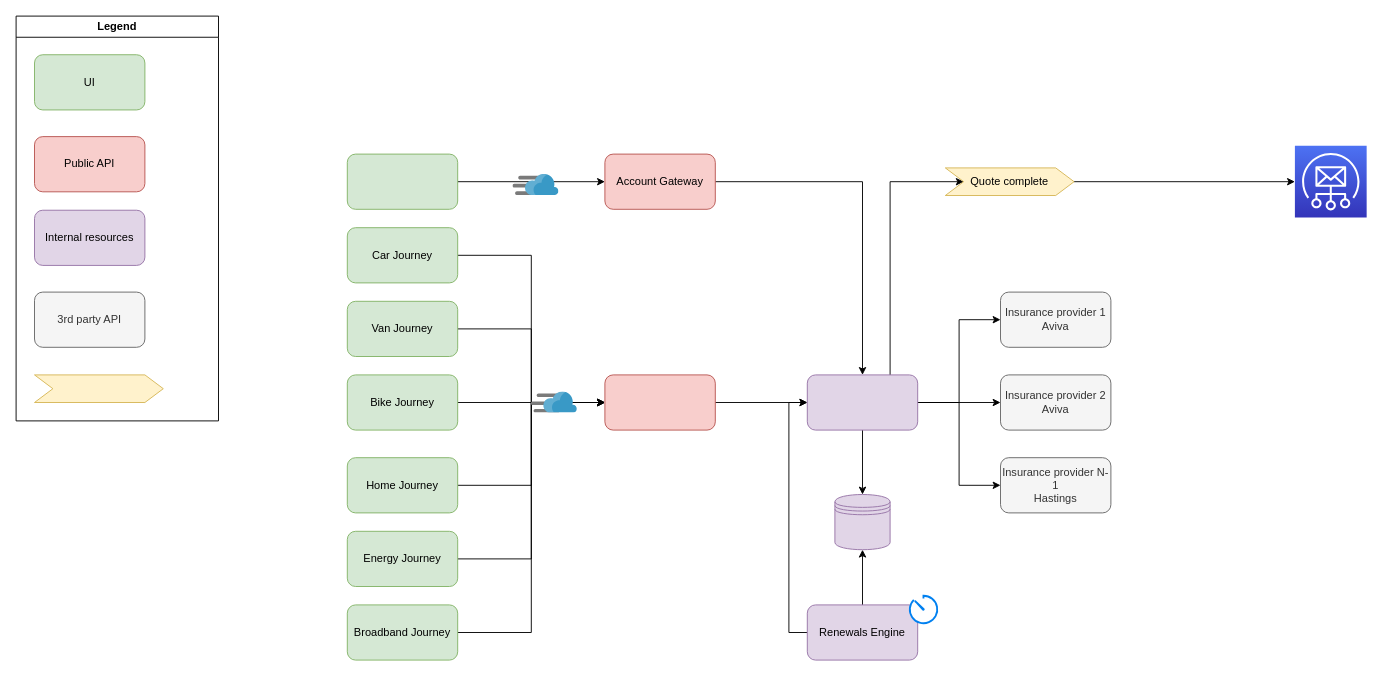
This 1383x676 diagram has some shape labels left out. Here are the shapes that lost their labels. From the top down, the centre of each, then its label:
point 402,181: My Account
point 1330,181: Email Service
point 98,388: Event
point 659,402: API Gateway
point 862,402: Quoting Engine
